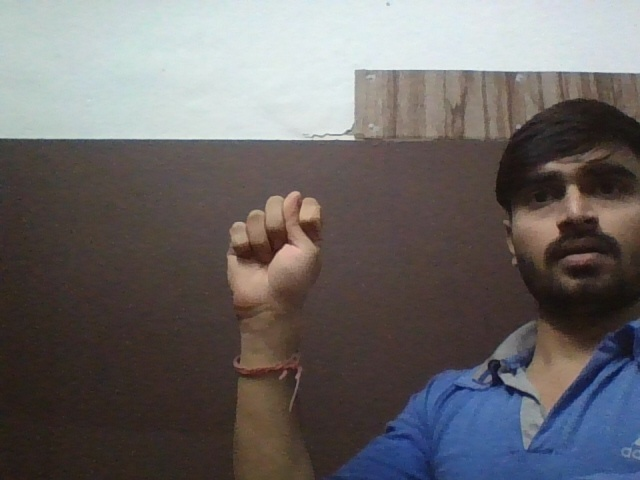T: (220, 185, 334, 319)
